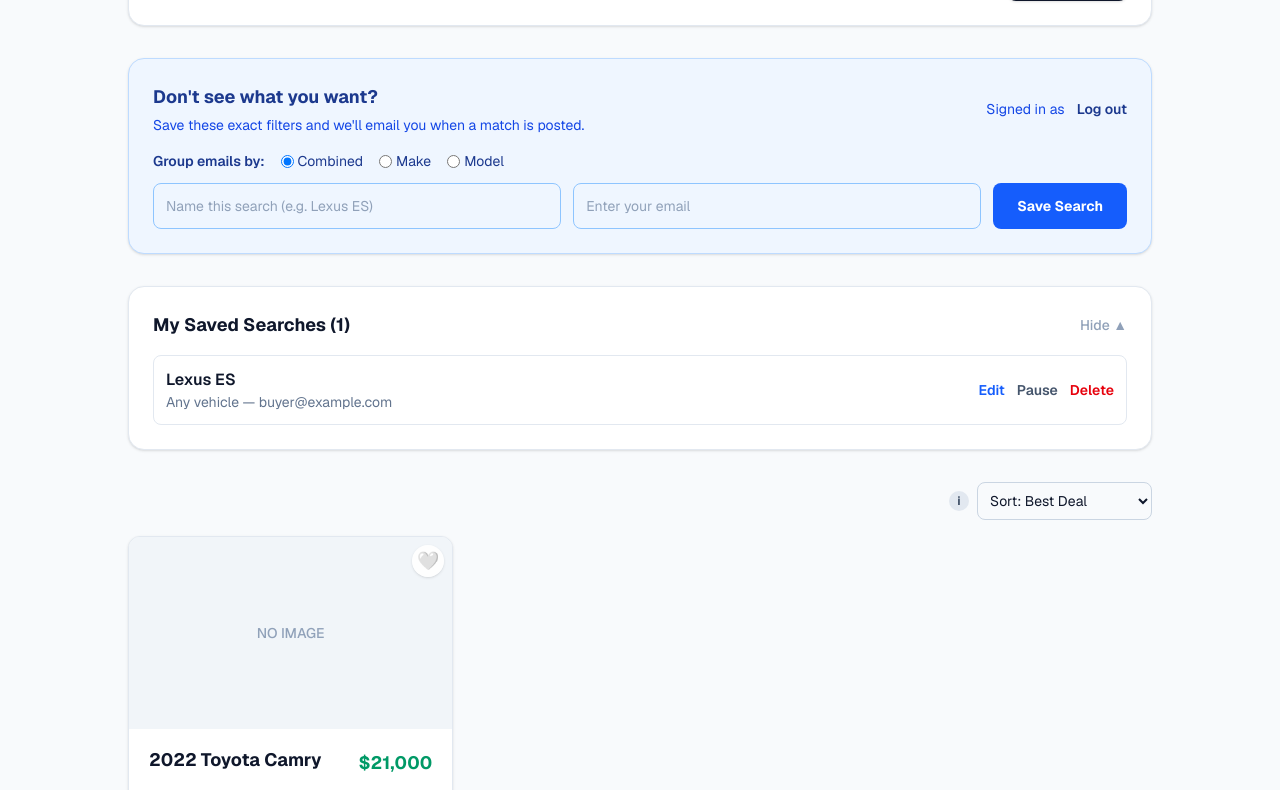
it: my saved searches › pausing a saved search updates is_active and shows a Paused label
(page scrolled)
Expected: the text "Lexus ES" is shown, [166,369,236,390]
Click the button "Pause" at (1037, 390), box [1017,380,1058,400]
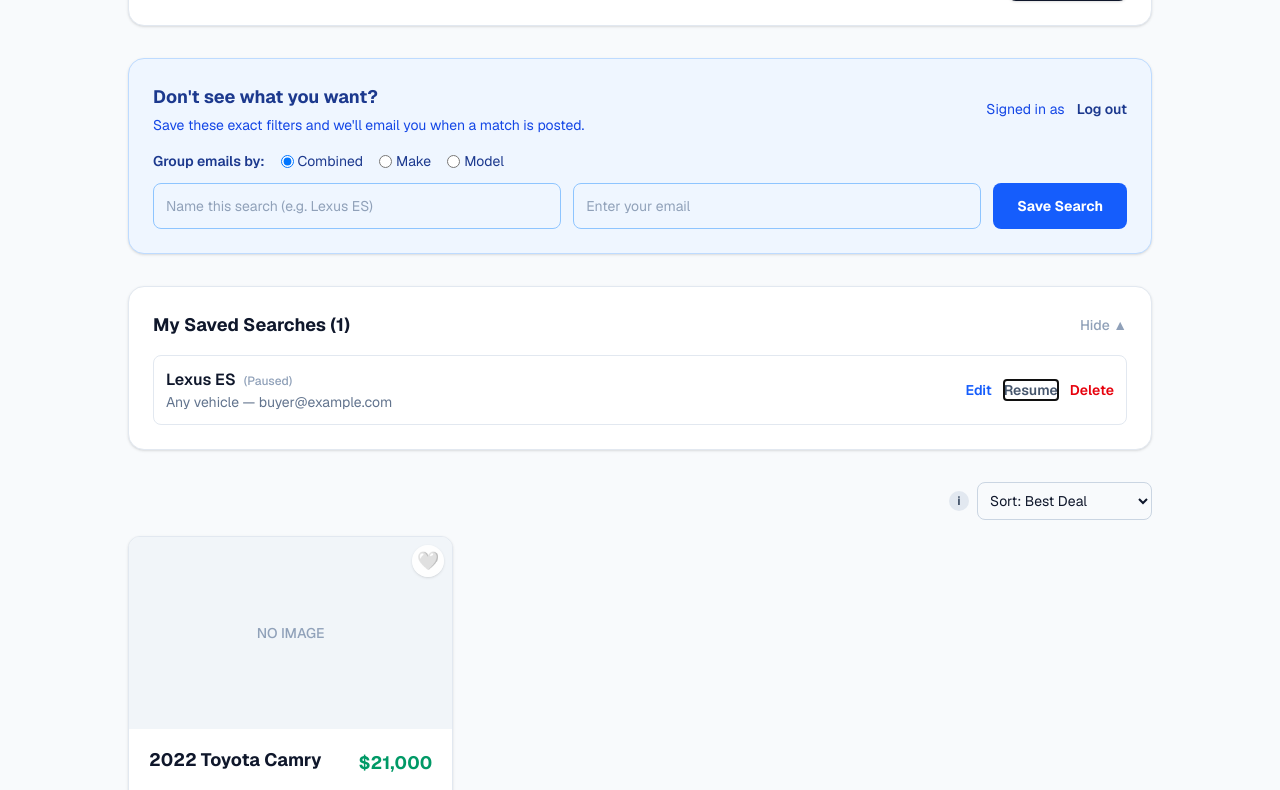
Expected: the text "(Paused)" is shown, [244,373,292,389]
Expected: the button with aria-label "Resume Lexus ES" is shown, [1004,380,1058,400]
